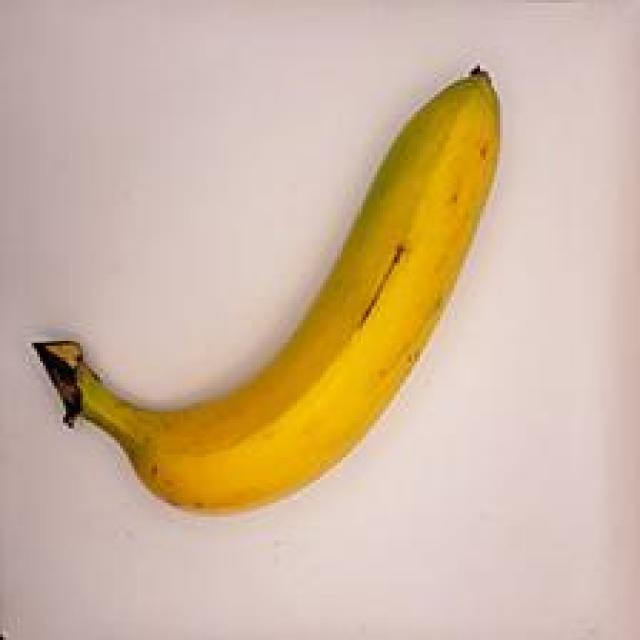Ripe: (17, 30, 529, 539)
